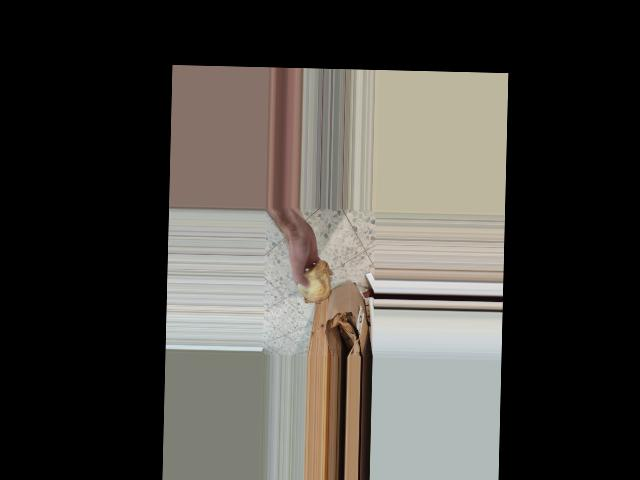onion: (296, 256, 333, 305)
